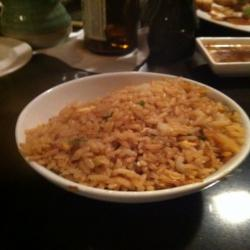rice: (49, 87, 235, 191)
